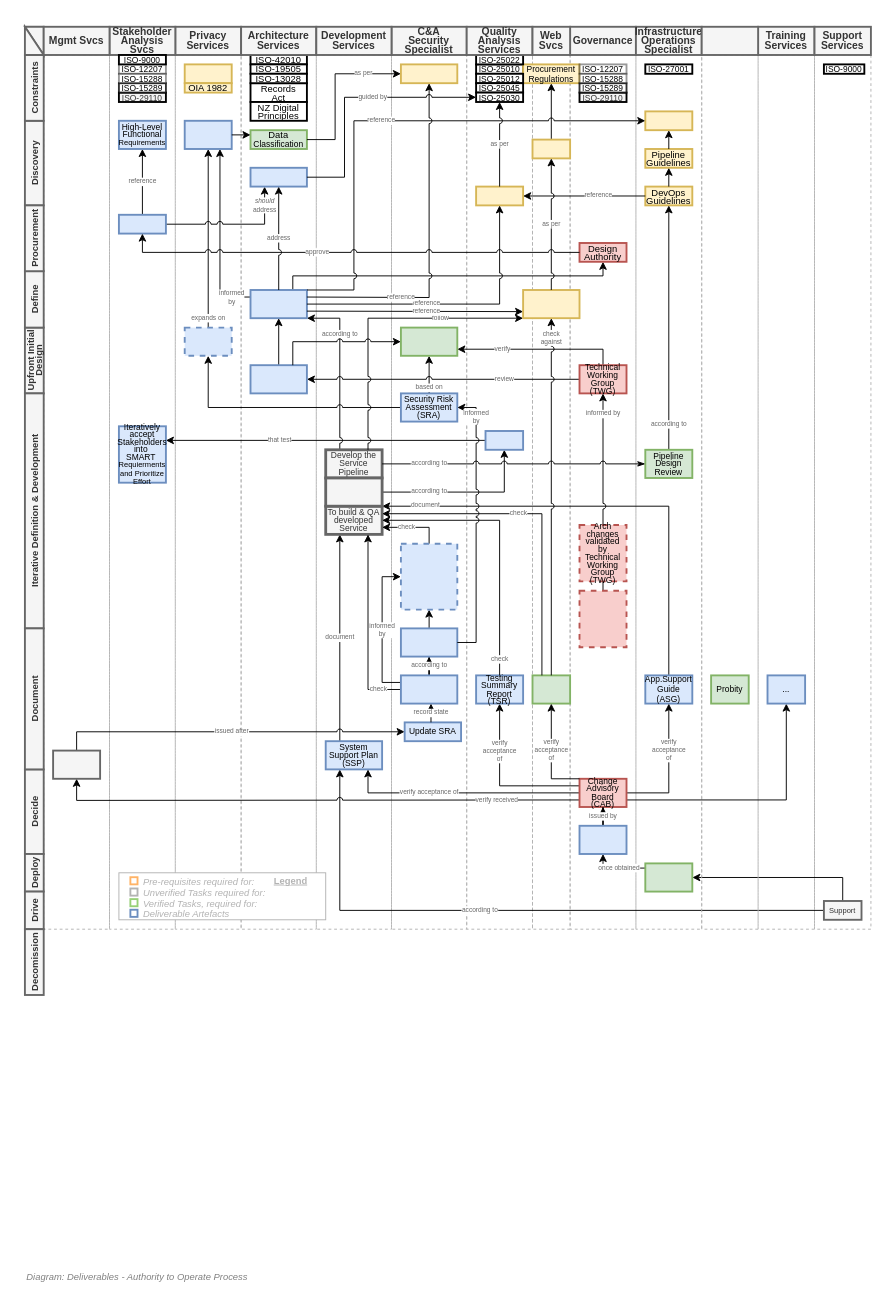
The diagram is 887 pixels wide and 1302 high, and some of its shapes have lost their labels. Each missing label, with the centre of its shape:
Authority to Operate Memo (ATO): pixel 602 839
Business Case: pixel 142 223
Check Obligations: pixel 551 689
Control Validation Audit (CVA): pixel 429 689
Control Validation Plan (CVP): pixel 429 642
Define QAs: pixel 504 440
Deploy to PROD: pixel 668 877
Design Obligations & Guidelines: pixel 551 304
Design Review: pixel 429 341
Infrastructure Guidelines: pixel 668 120
Internal or External 3rd party Technical Security Assessment (TSA): pixel 429 576
NZGWG WCAG: pixel 551 148
NZISM: pixel 429 73
Privacy Act: pixel 207 73
Privacy Impact Assessment (PIA): pixel 207 341
Privacy Threshold Assessment (PTA): pixel 207 134
Quality Requirements: pixel 278 176
Receive Signed C&A Memo: pixel 76 764
Solution Architecture Description (SAD): pixel 278 304
strategy changes validated by Design Authority (DA): pixel 602 618
Summarize: pixel 278 379
Testing Guidelines: pixel 499 195
to run Developed Automated Tests: pixel 353 491
